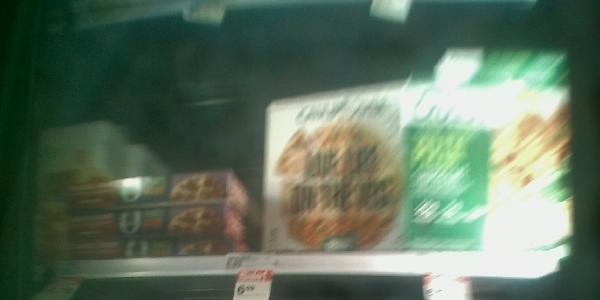pizza: (411, 83, 576, 254), (260, 76, 410, 262)
pizza1: (32, 168, 233, 204), (28, 207, 234, 234), (443, 49, 573, 85), (29, 233, 237, 255)
